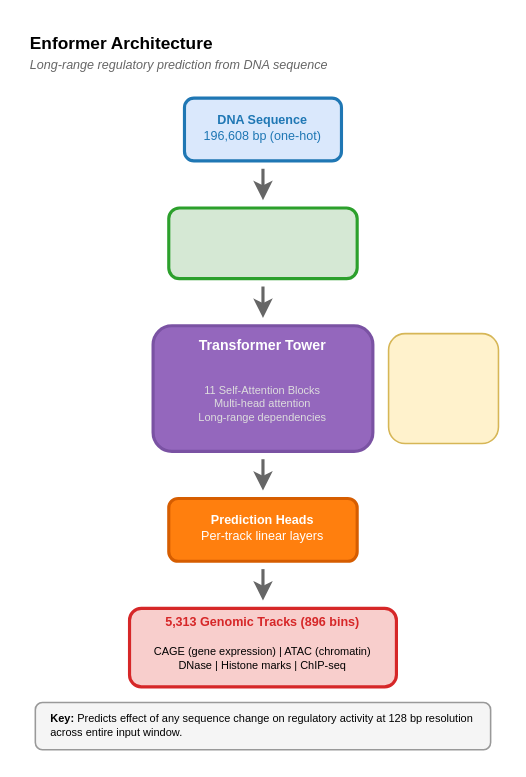
Image size: 526x777. Some labels were removed from this diagram. The centre of each missing label's shape, as x and y in pixels:
Convolutional Stem CNN layers → 128 bp bins: the point at 262,242
~100 kb effective receptive field: the point at 442,388
